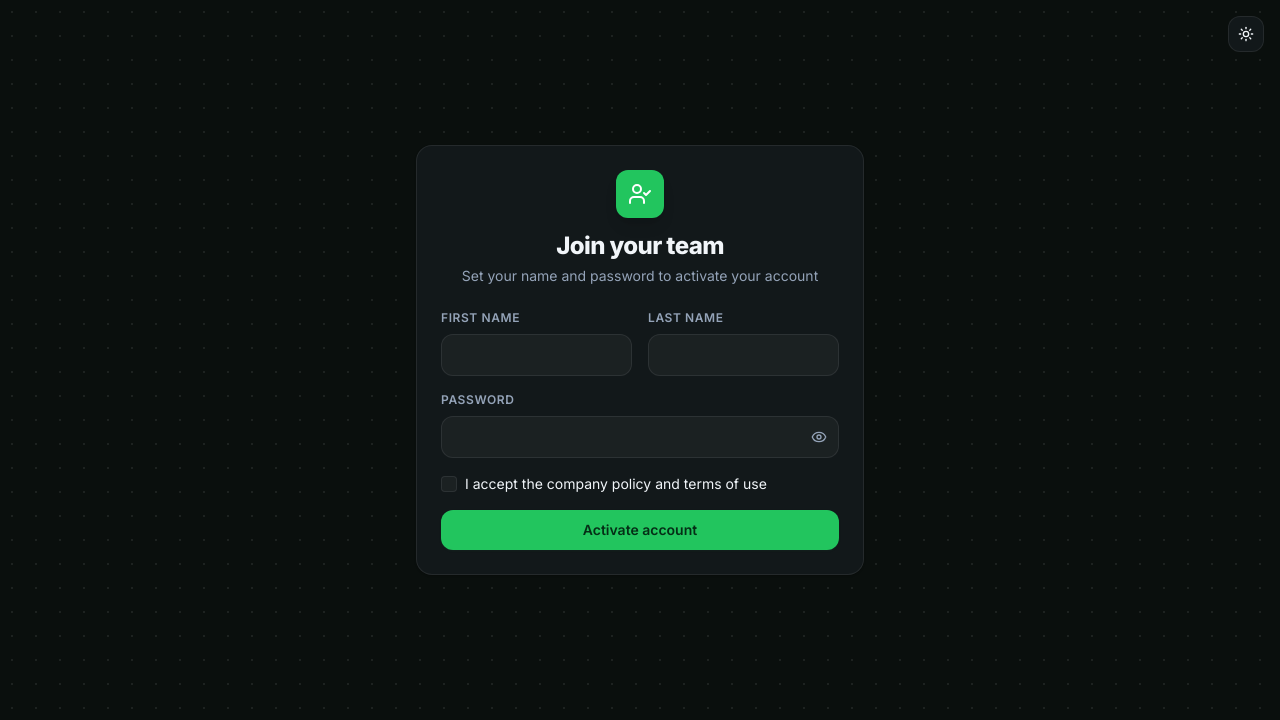
Test: AcceptInvitePage › shows a server error for an invalid/expired token
Type "Ada" into the field labelled "First name".
click(536, 355); type("Ada")  # box 441,334 -> 632,376
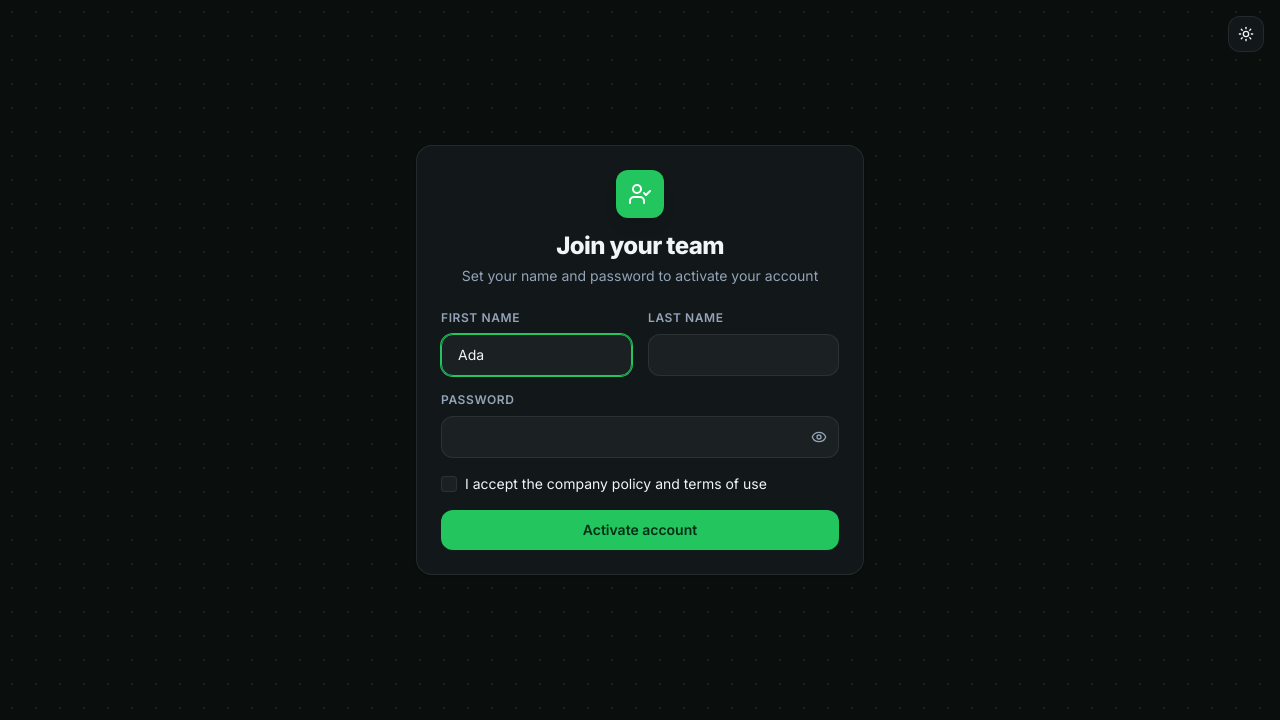
Type "Admin" into the field labelled "Last name".
click(744, 355); type("Admin")  # box 648,334 -> 839,376
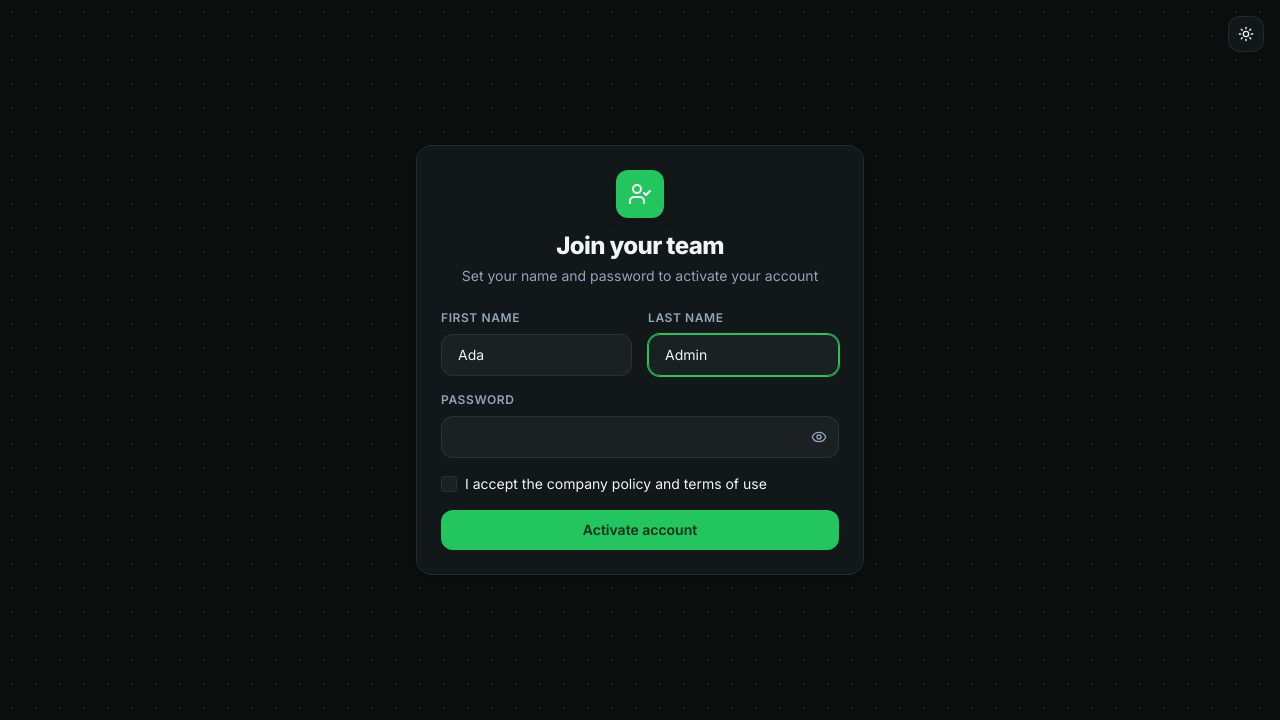
Type "CorrectPassword123" into the password field labelled "Password".
click(640, 437); type("CorrectPassword123")  # box 441,416 -> 839,458
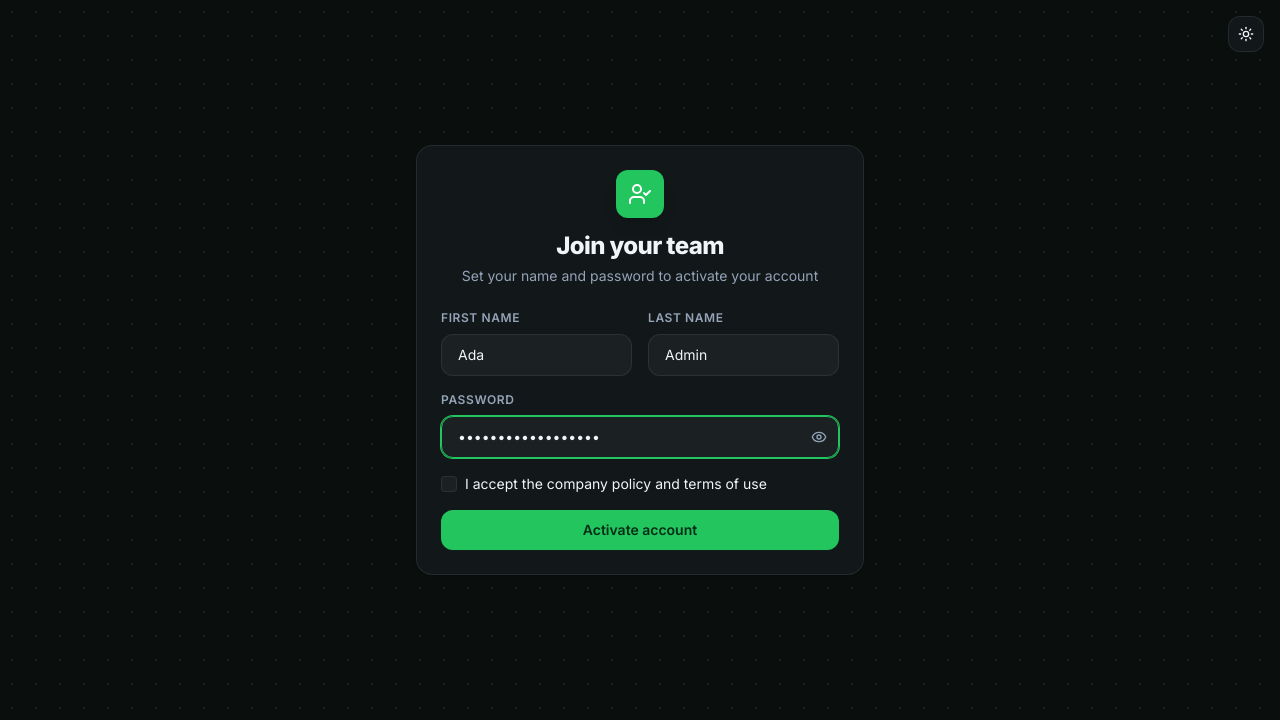
Click the checkbox.
click(449, 484)  # box 441,476 -> 457,492
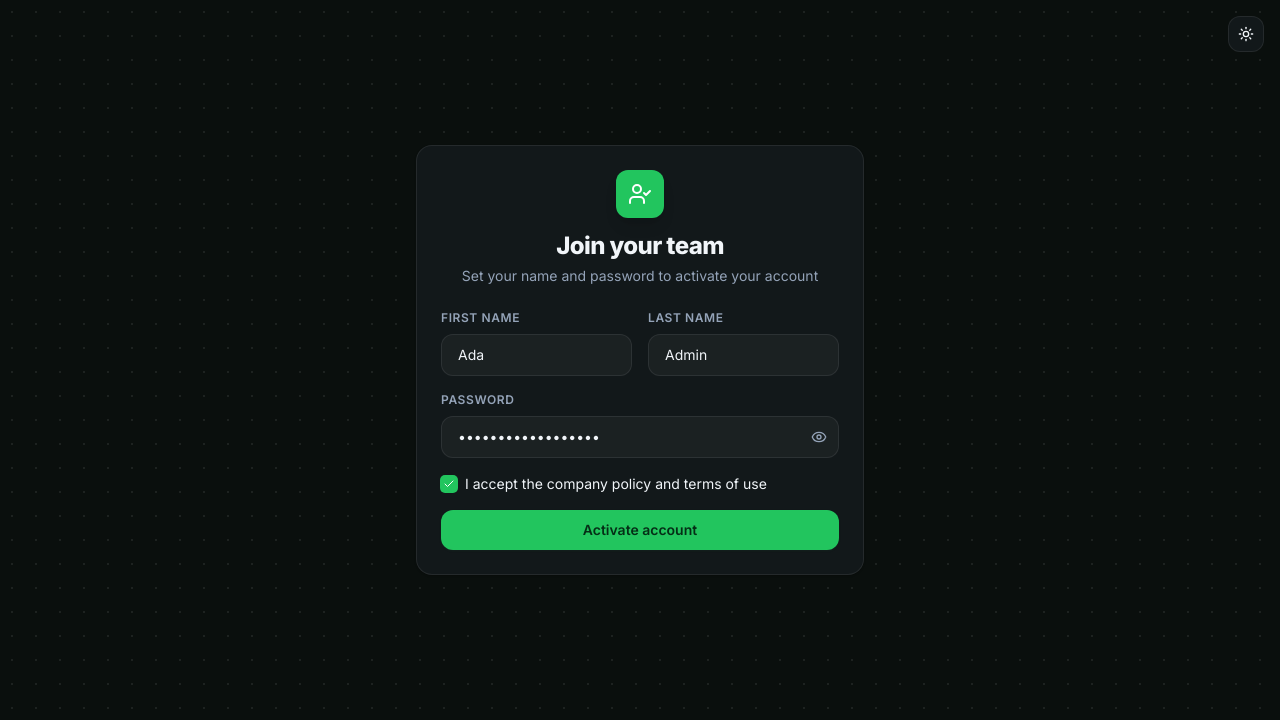
Click the button "Activate account".
click(640, 530)  # box 441,510 -> 839,550
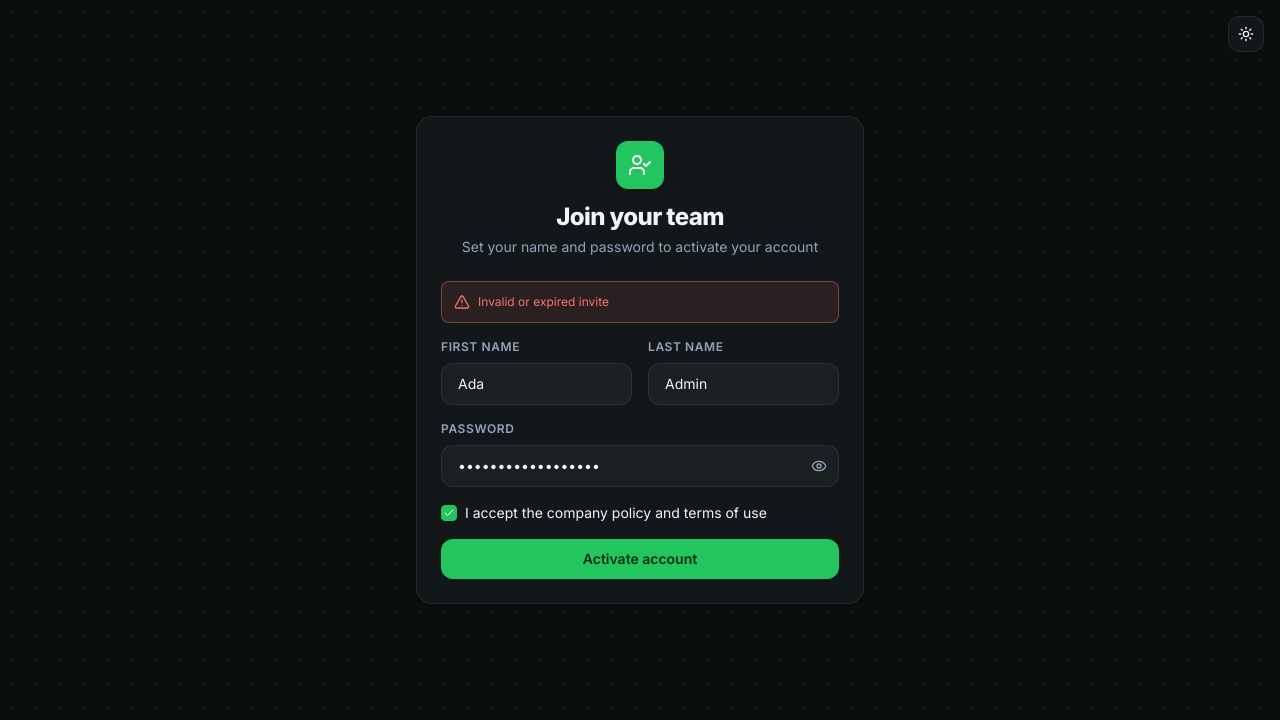
Expected: the text "Invalid or expired invite" is shown, 478,294 -> 609,310
